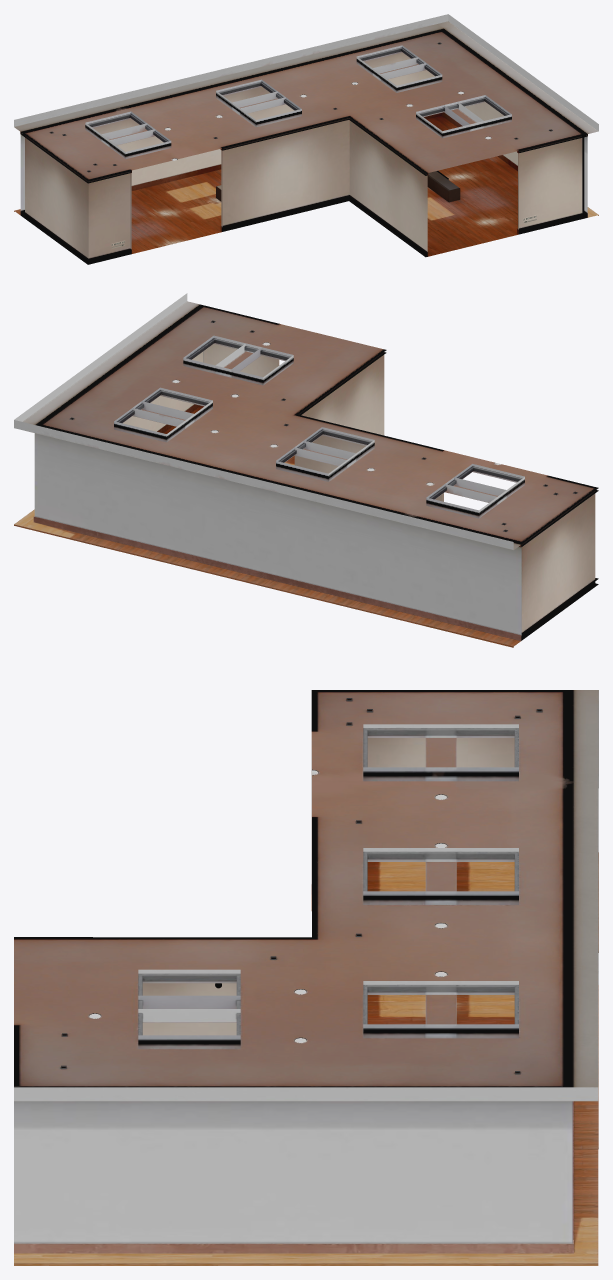
Rendered from room_7.glb.
The picture shows the model from 3 angles, top to bottom: view 1: azimuth 30°, elevation 25°; view 2: azimuth 150°, elevation 25°; view 3: azimuth 270°, elevation 25°; orthographic projection. The views are drawn at different scales.
Visible parts, largest first — view 1: room_7; view 2: room_7; view 3: room_7.
Part boxes in pixels (box(x1,y1,x2,y2)): room_7: box(14, 14, 598, 264); room_7: box(14, 293, 598, 647); room_7: box(14, 690, 598, 1265).
Bounding box in the file's own units: 19.02 × 3.85 × 11.43.
2 materials, 2 textured.
